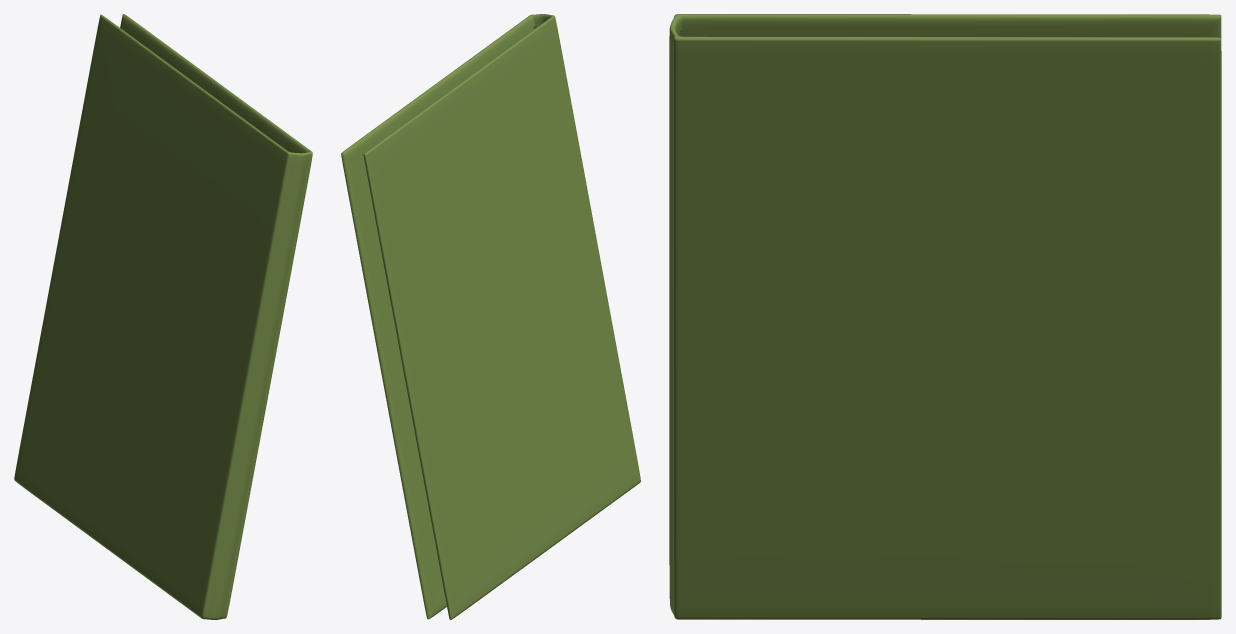
File: object_115_lev1.glb
The picture shows the model from 3 angles, left to right: view 1: azimuth 30°, elevation 25°; view 2: azimuth 150°, elevation 25°; view 3: azimuth 270°, elevation 25°; orthographic projection. The views are drawn at different scales.
Visible parts, largest first — view 1: object_115_lev1; view 2: object_115_lev1; view 3: object_115_lev1.
Part boxes in pixels (x1,y1,x2,y2): object_115_lev1: (14,14,312,619); object_115_lev1: (341,14,640,619); object_115_lev1: (669,14,1221,619).
Bounding box in the file's own units: 0.0533 × 0.2063 × 0.1589.
